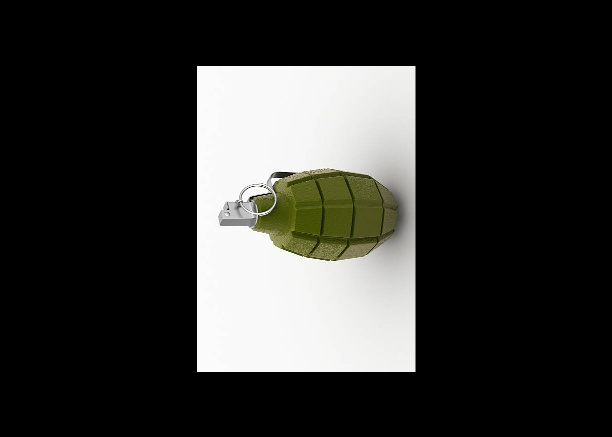e1: (218, 166, 404, 259)
